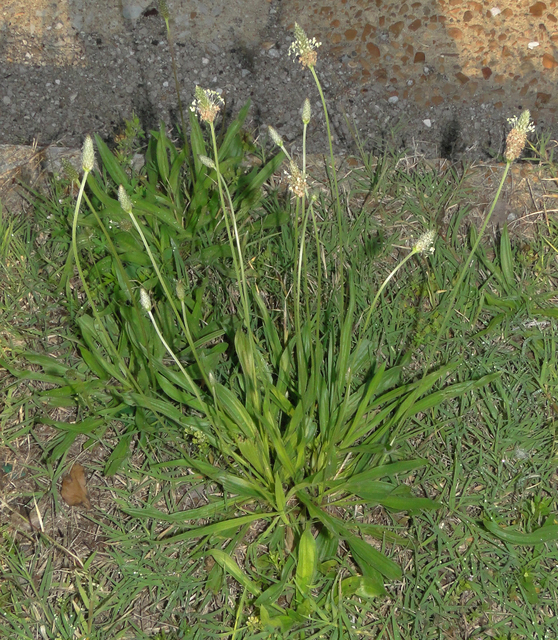buckhorn plantain: (59, 19, 532, 578)
